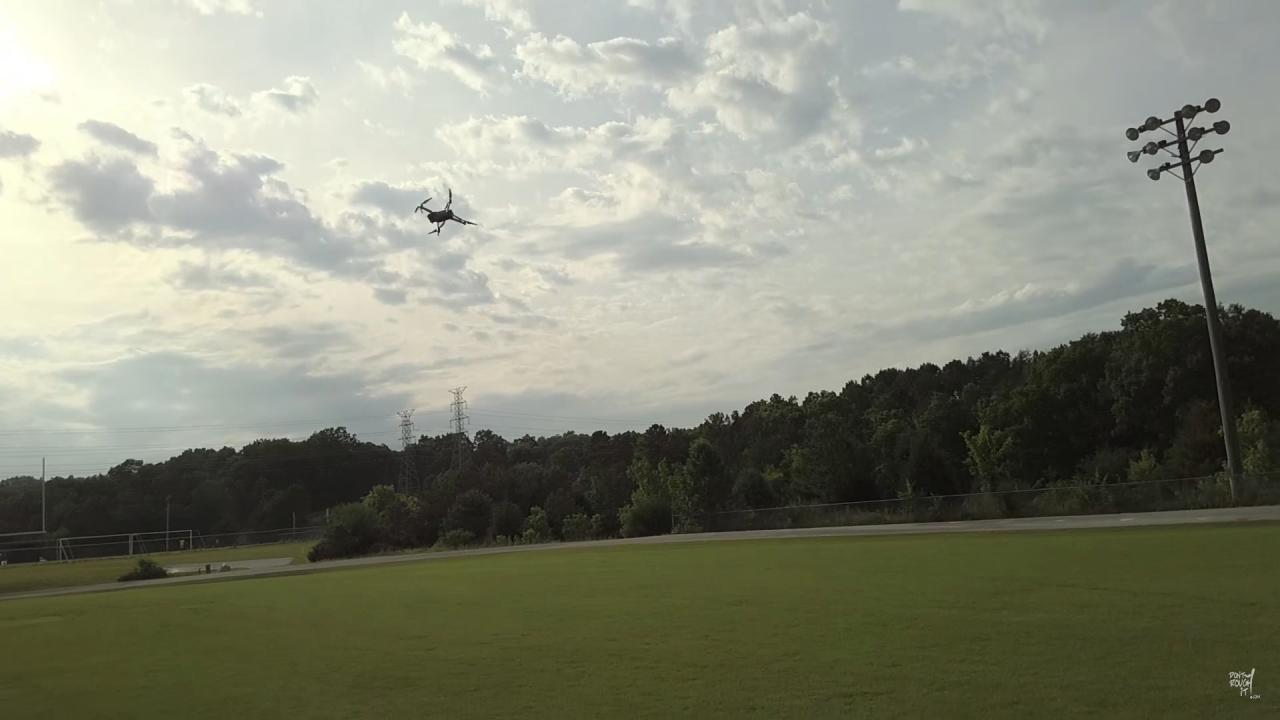Drone: (407, 179, 479, 250)
